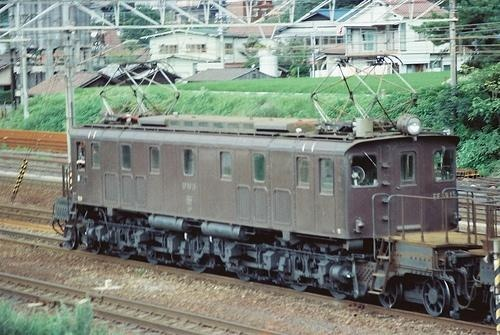train: (53, 116, 500, 327)
